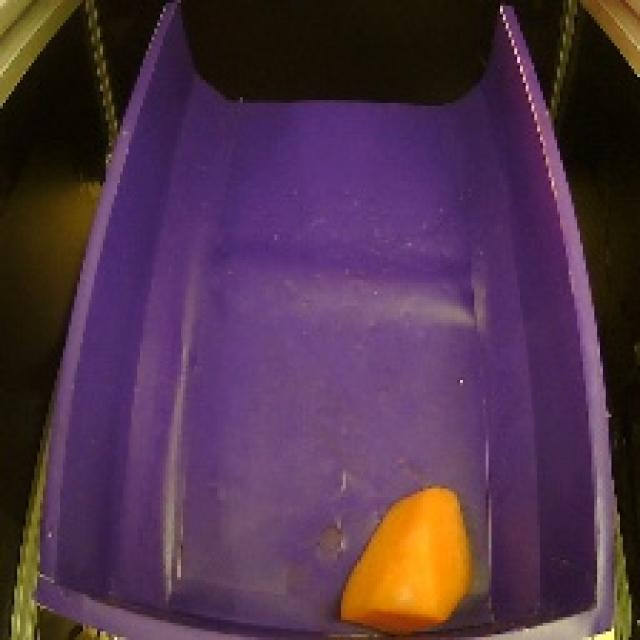carrots: (324, 476, 480, 635)
